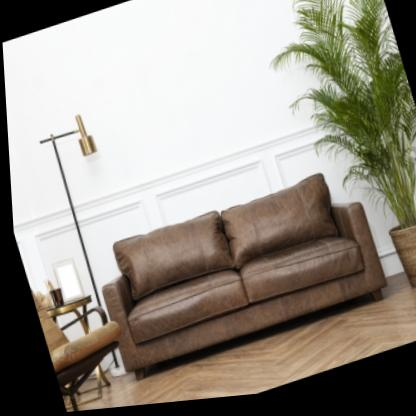Sofa: (88, 169, 380, 373)
Wooden floor: (75, 280, 416, 412)
